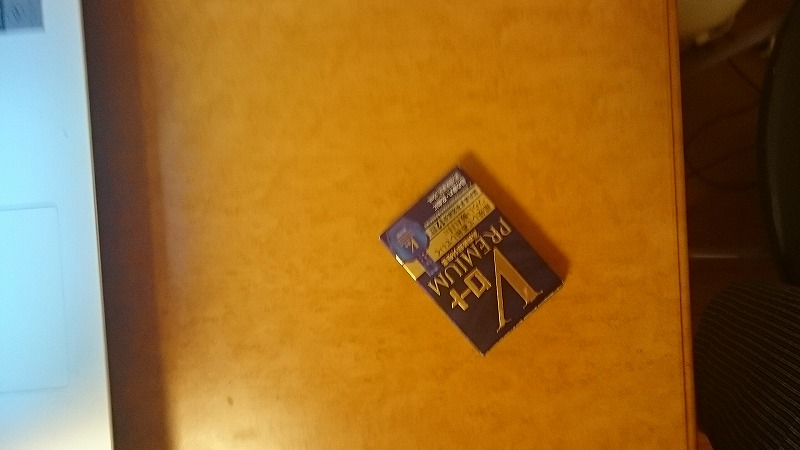D: (371, 160, 574, 362)
